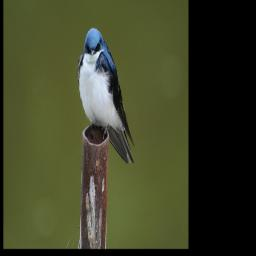Swallow: (77, 26, 136, 166)
